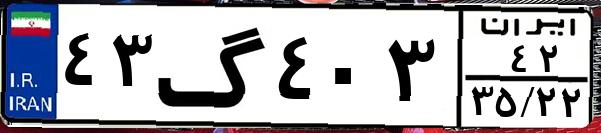0: (330, 28, 385, 110)
2: (560, 70, 590, 125), (537, 27, 568, 80), (535, 70, 560, 125)
3: (385, 28, 445, 110), (110, 28, 156, 98), (470, 70, 495, 125)
4: (270, 28, 330, 110), (57, 26, 110, 100), (508, 27, 537, 80)
5: (495, 70, 520, 125)
گ: (156, 12, 270, 120)
